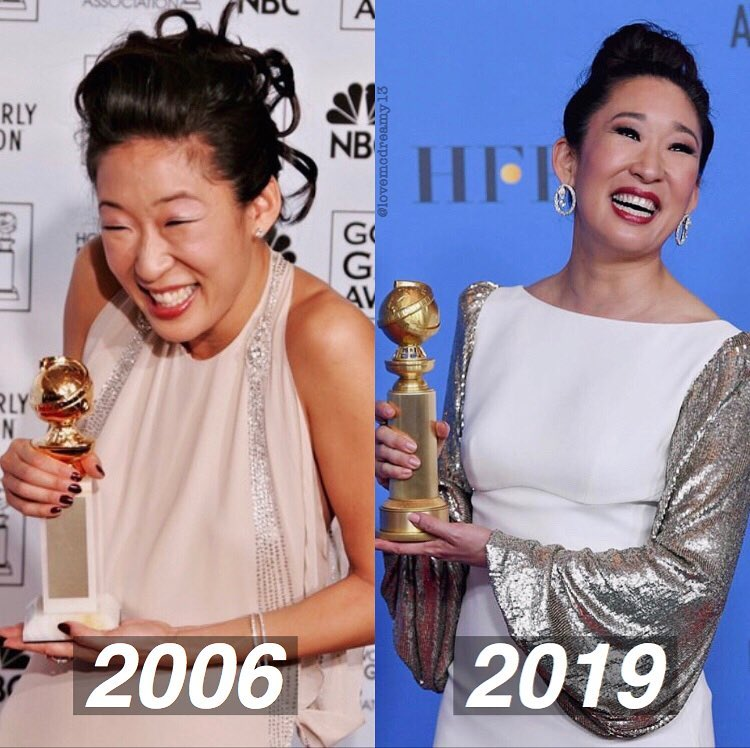hand: (0, 443, 96, 507)
